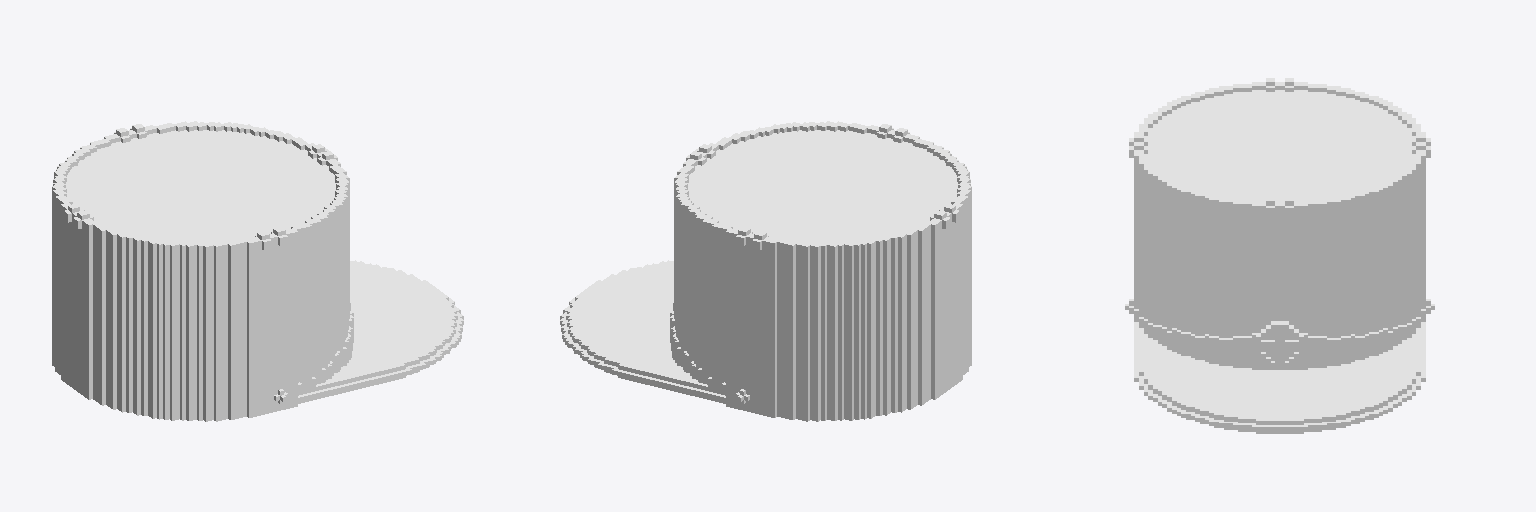
File: Casquechef.obj
3 renders of one model, left to right at view 1: azimuth 30°, elevation 25°; view 2: azimuth 150°, elevation 25°; view 3: azimuth 270°, elevation 25°, orthographic.
Parts seen in each view (by area): view 1: object 1; view 2: object 1; view 3: object 1.
Boxes of the visible parts, box(x1,y1,x2,y2) form: object 1: box(52, 121, 463, 421); object 1: box(560, 121, 971, 421); object 1: box(1125, 78, 1434, 433).
Bounding box in the file's own units: 9.1 × 4.2 × 6.6.